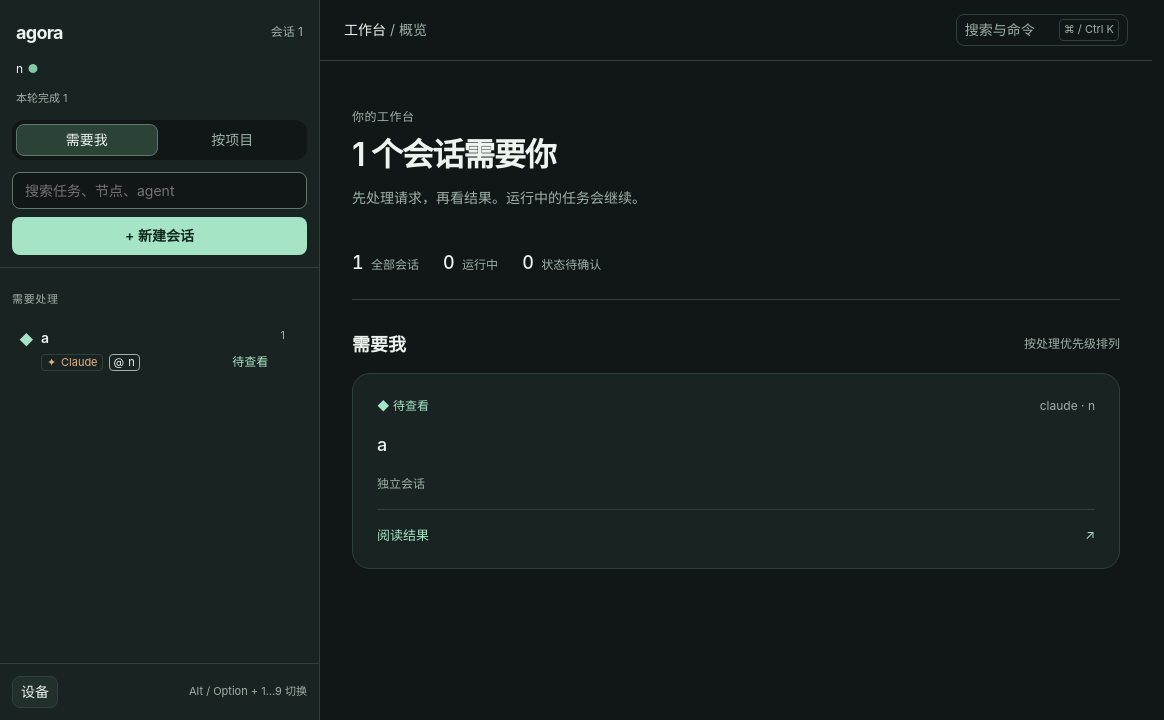
Scenario: Workspace › the diff view hides the respond panel, keeps the result panel and 看 diff still switches to it
Click the button with test id "row-n:a". click: (72,362)
box: [10,315,294,384]
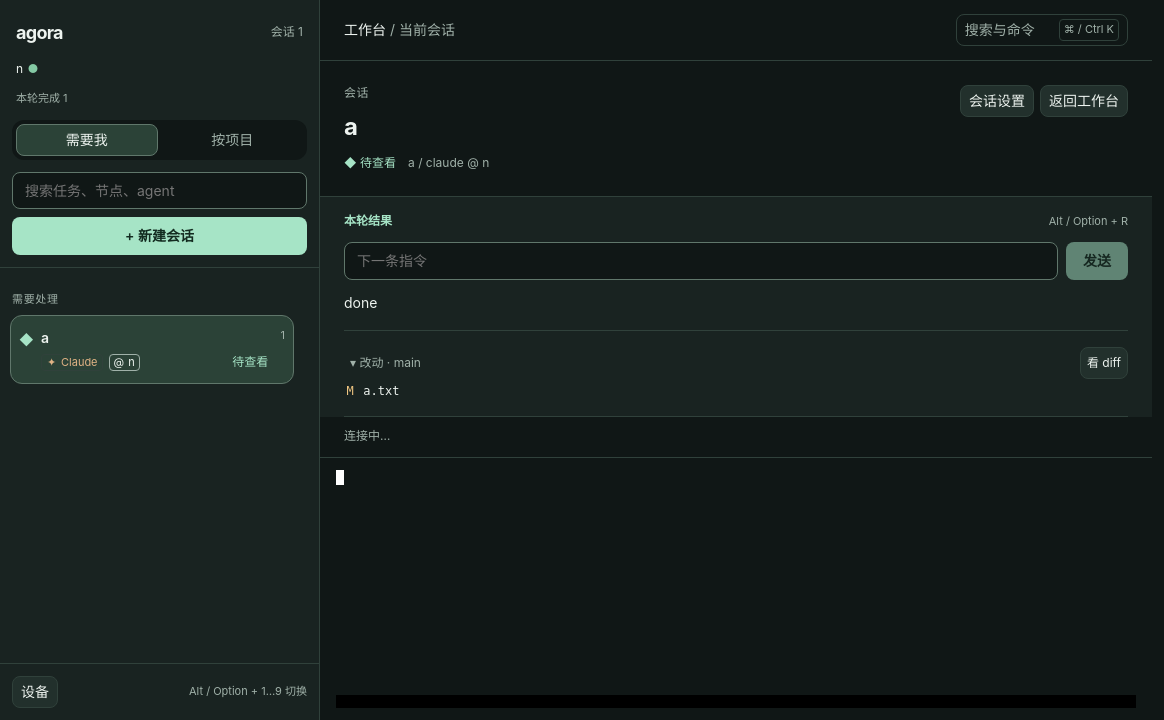
Result: the element with test id "respond-panel-n:a" is shown at [344,197,1128,331]
Result: the element with test id "result-panel-n:a" is shown at [344,331,1128,417]
// 「看 diff」这个按钮就长在看结果面板里：它还能把主区切过去，本身也说明面板没被藏。
Click the button with test id "diff-n:a". click: (1104,363)
box: [1080,347,1128,379]
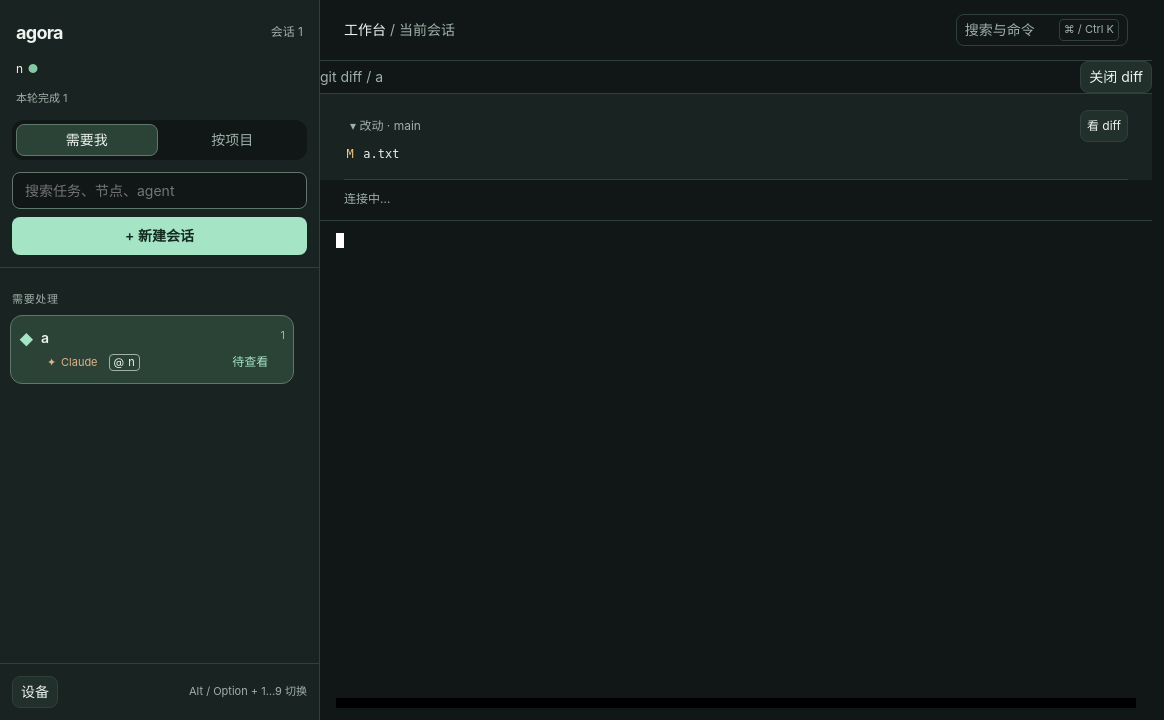
Result: the element with test id "result-panel-n:a" is shown at [344,94,1128,180]
Result: the text "git diff / a" is shown at [320,67,383,87]
Click the button with test id "close-diff". click: (1116,77)
box: [1080,61,1152,93]
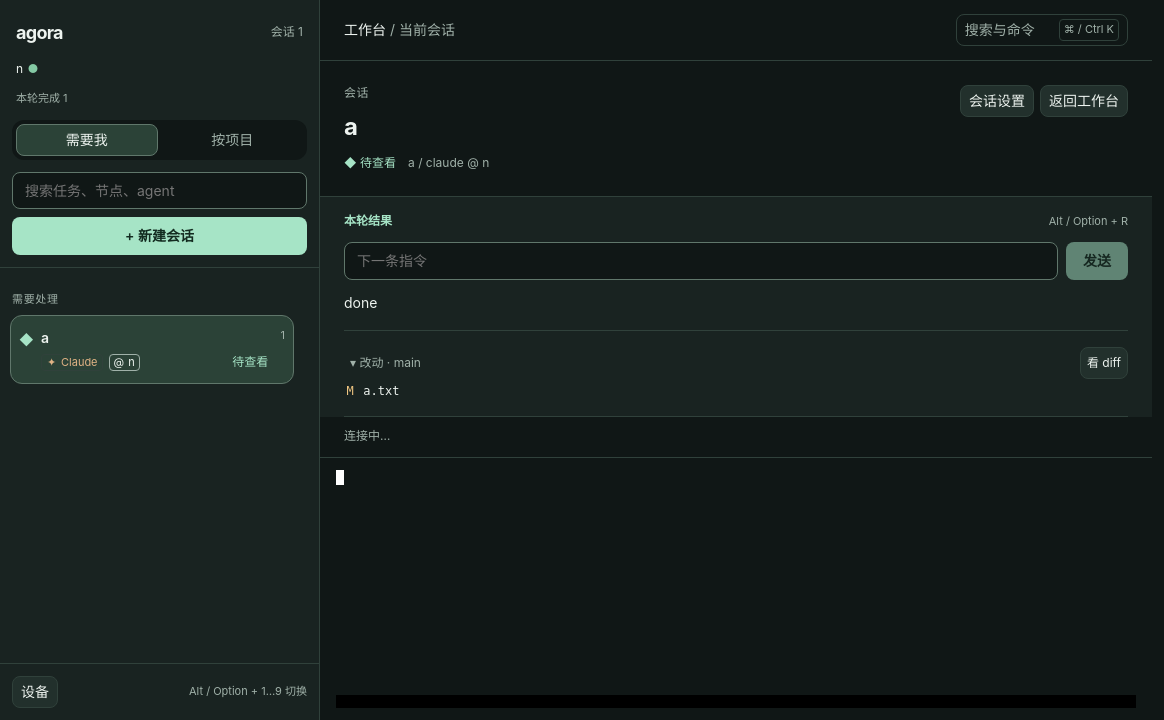
Result: the element with test id "result-panel-n:a" is shown at [344,331,1128,417]
Result: the element with test id "respond-panel-n:a" is shown at [344,197,1128,331]
